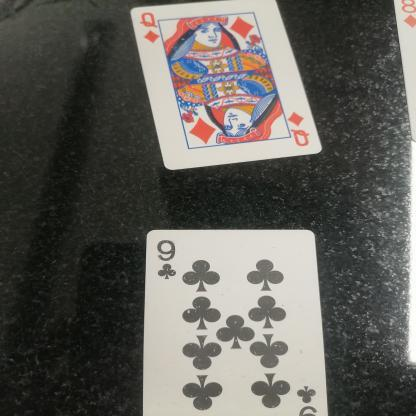9C: (147, 237, 184, 282)
QD: (140, 10, 168, 52)
